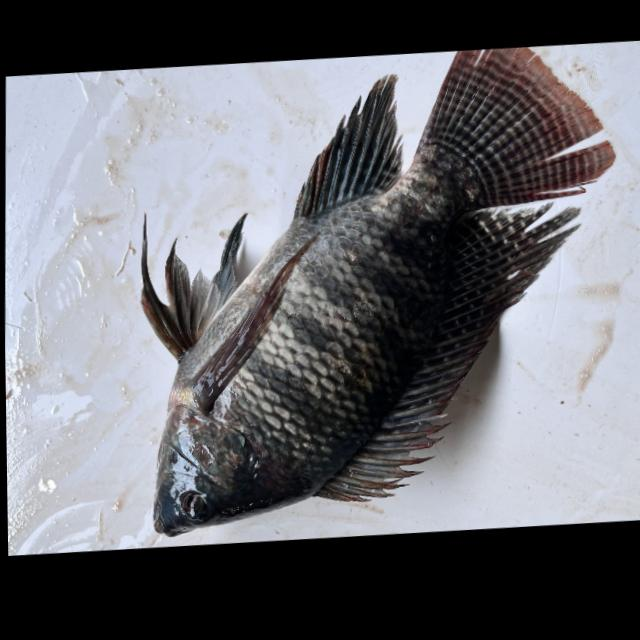Tilapia: (133, 31, 623, 549)
